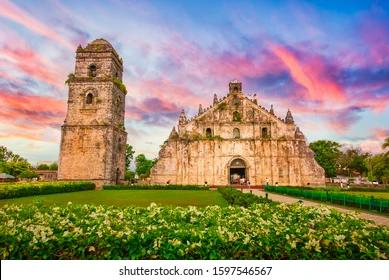Environmental Damage: (182, 132, 222, 143), (109, 78, 130, 95), (63, 72, 78, 84), (233, 111, 243, 123)
Paoay Church: (57, 36, 327, 189)
